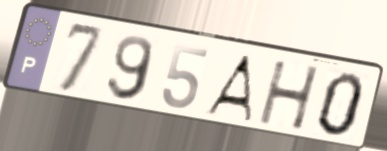0: (315, 70, 367, 139)
5: (159, 42, 211, 111)
7: (59, 19, 104, 97)
9: (104, 34, 156, 103)
A: (201, 53, 255, 125)
H: (257, 59, 323, 133)
